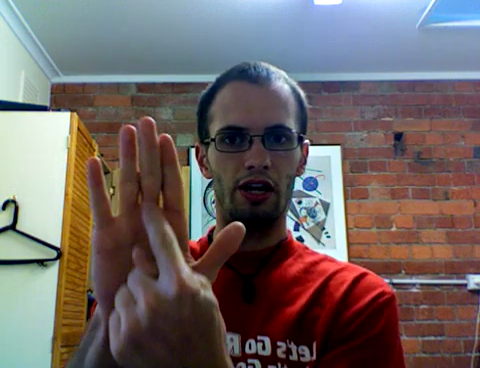J: (60, 107, 253, 368)
